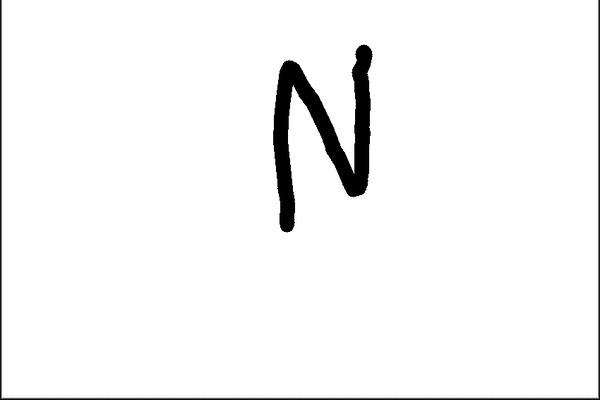N: (266, 35, 380, 235)
